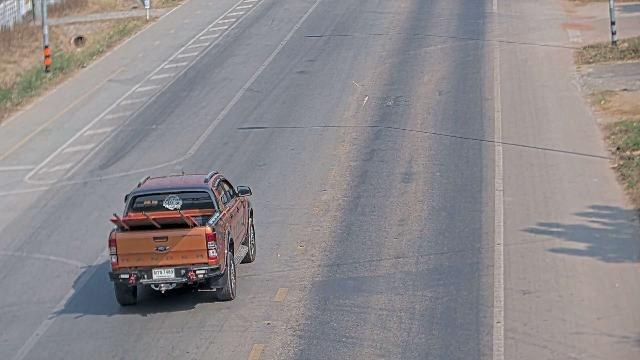pickup-truck: (107, 169, 256, 306)
